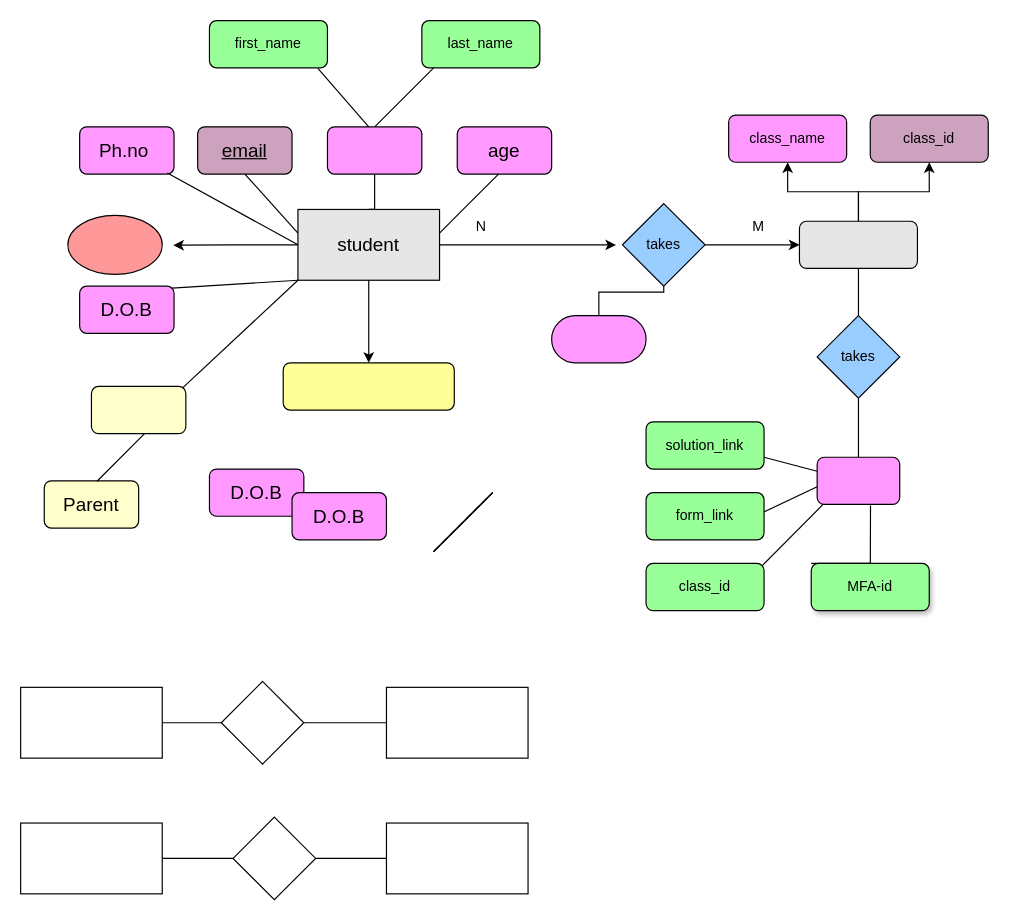
This 1009x920 diagram has some shape labels left out. Each missing label, with the centre of its shape:
"address" goes at point 114,244.
"class" goes at point 857,244.
"grade" goes at point 598,338.
"has" goes at point 138,409.
"MFA" goes at point 858,480.
"name" goes at point 374,150.
"parent_home_in_chennai" goes at point 368,386.
